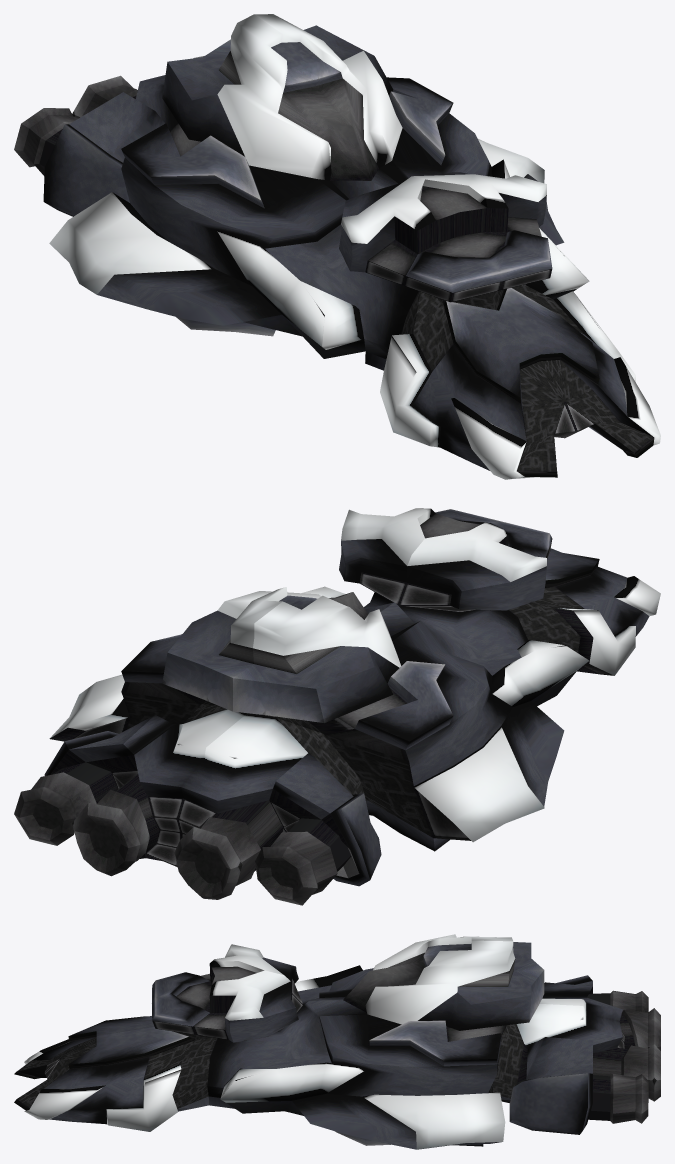
File: the_fearless.DAE
The picture shows the model from 3 angles, top to bottom: view 1: azimuth 30°, elevation 25°; view 2: azimuth 150°, elevation 25°; view 3: azimuth 270°, elevation 25°; orthographic projection. The views are drawn at different scales.
Parts seen in each view (by area): view 1: Box14; view 2: Box14; view 3: Box14.
Part boxes in pixels (x1,y1,x2,y2): Box14: (14,14,660,479); Box14: (14,508,660,905); Box14: (14,934,660,1149).
Size of the model in its own units: 316 by 139 by 524.
